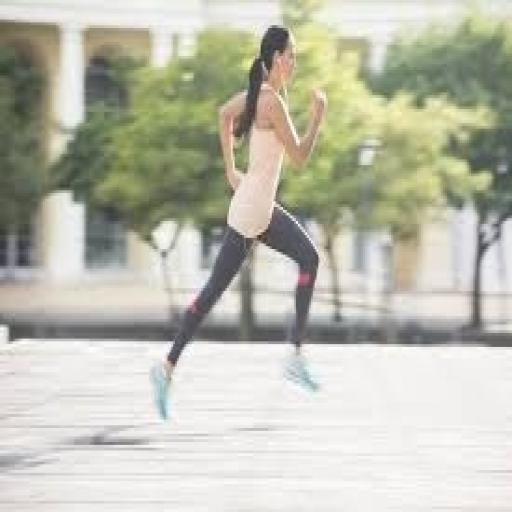running: (147, 22, 330, 426)
